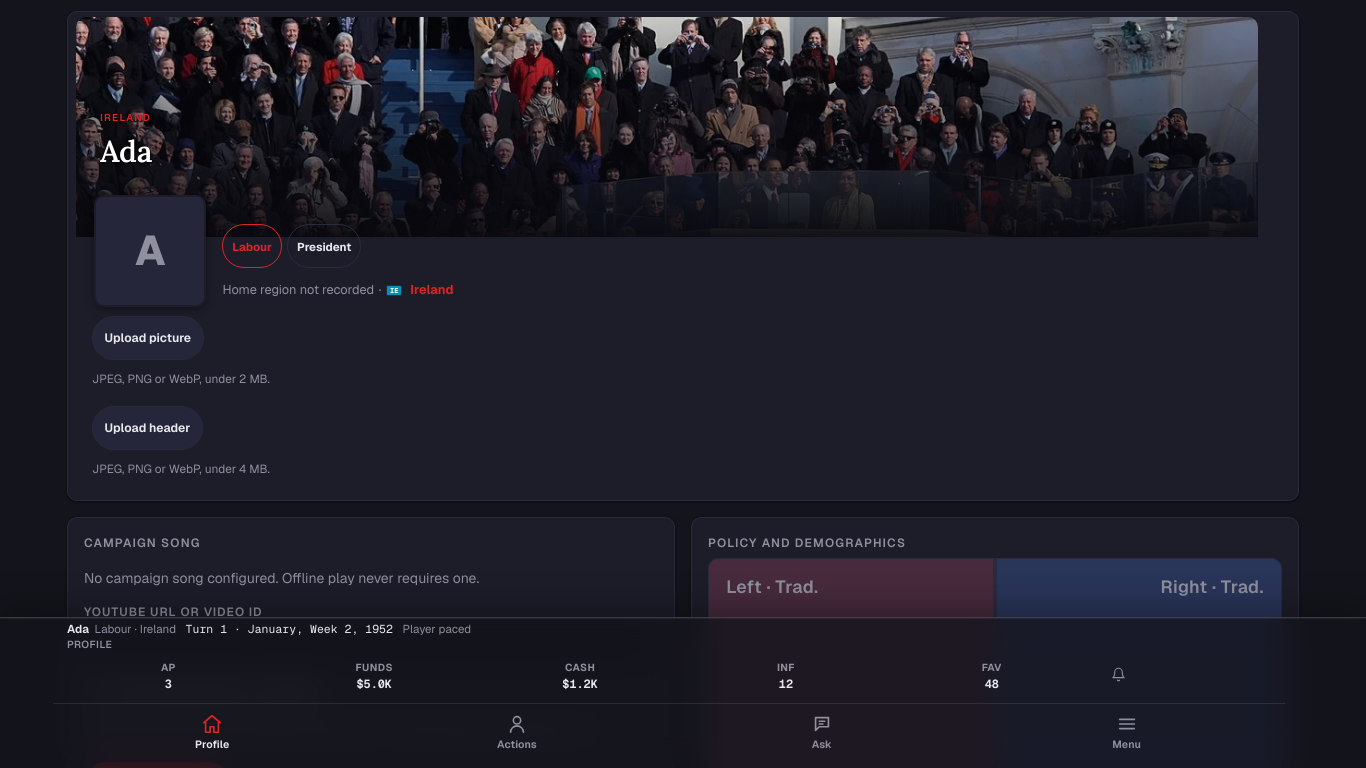
Test case: HoS office-identity mark › HoS IE flow: taoiseach title with parliamentary text, never presidential
The image size is (1366, 768).
Click the button "Actions".
click(517, 734)  # box [365, 706, 669, 762]
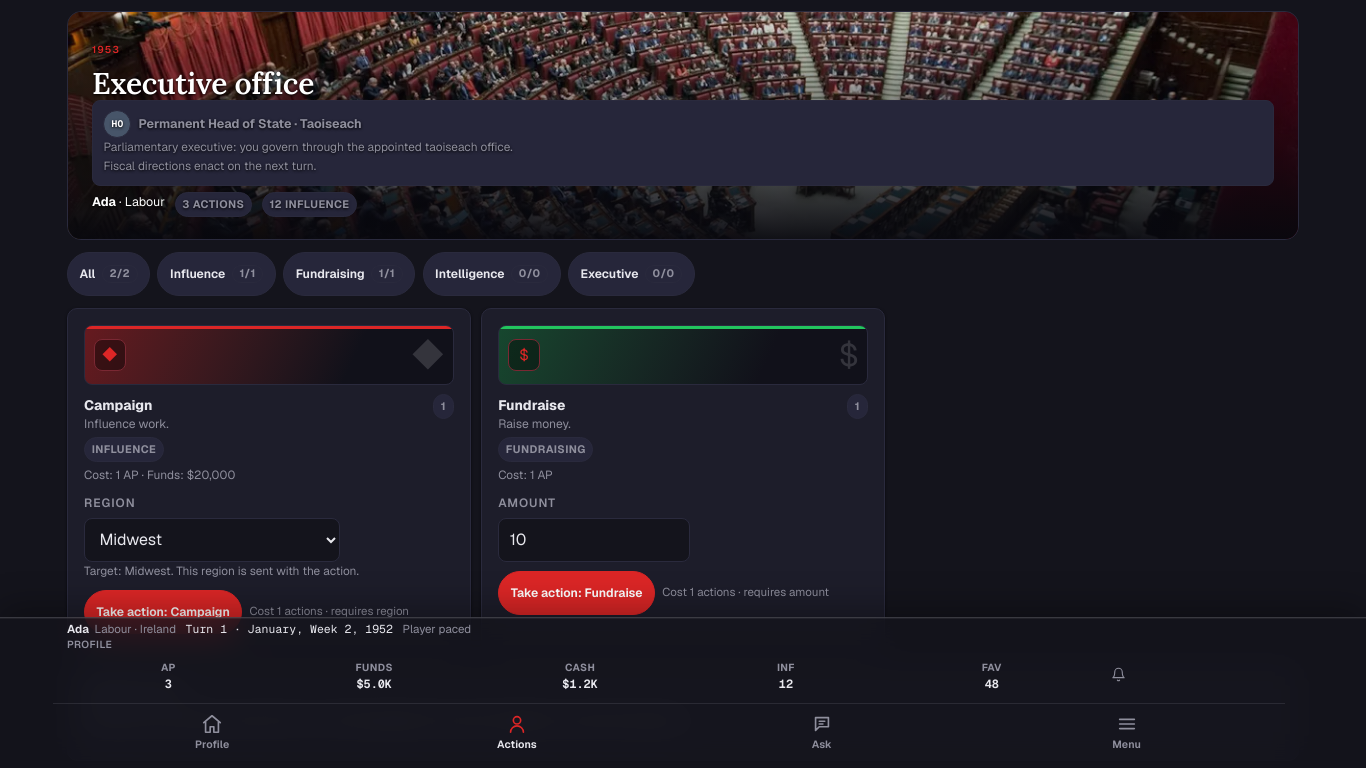
Result: the text "Permanent Head of State · Taoiseach" is shown at [139, 114, 362, 134]
Result: the text "Parliamentary executive: you govern through the appointed taoiseach office." is shown at [103, 139, 513, 154]
